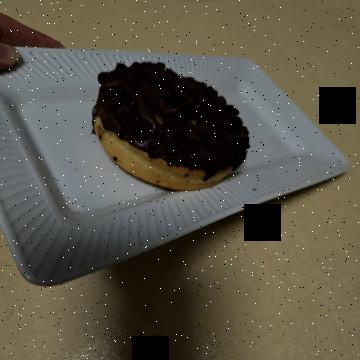doughnut: (48, 106, 201, 287)
